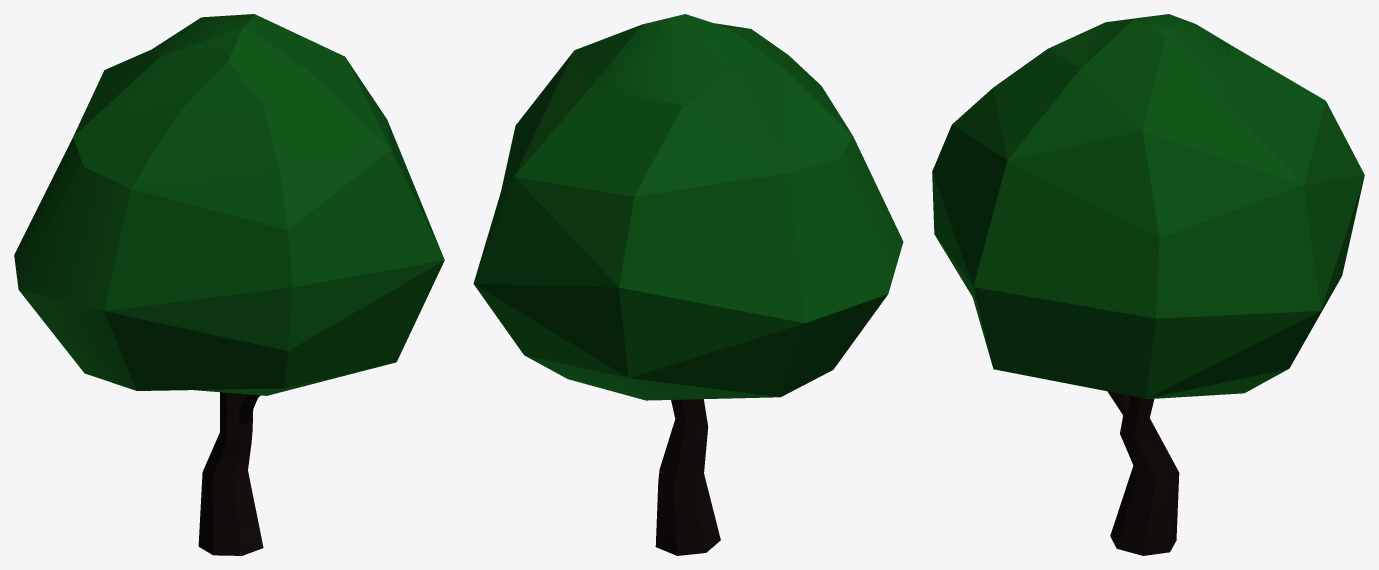
File: arbusto_1.FBX
The picture shows the model from 3 angles, left to right: view 1: azimuth 30°, elevation 25°; view 2: azimuth 150°, elevation 25°; view 3: azimuth 270°, elevation 25°; orthographic projection.
Parts seen in each view (by area): view 1: pCylinder8; view 2: pCylinder8; view 3: pCylinder8.
Part boxes in pixels (x1,y1,x2,y2): pCylinder8: (14, 14, 444, 555); pCylinder8: (473, 14, 903, 555); pCylinder8: (932, 14, 1364, 555).
Size of the model in its own units: 1.4 by 1.8 by 1.34.
